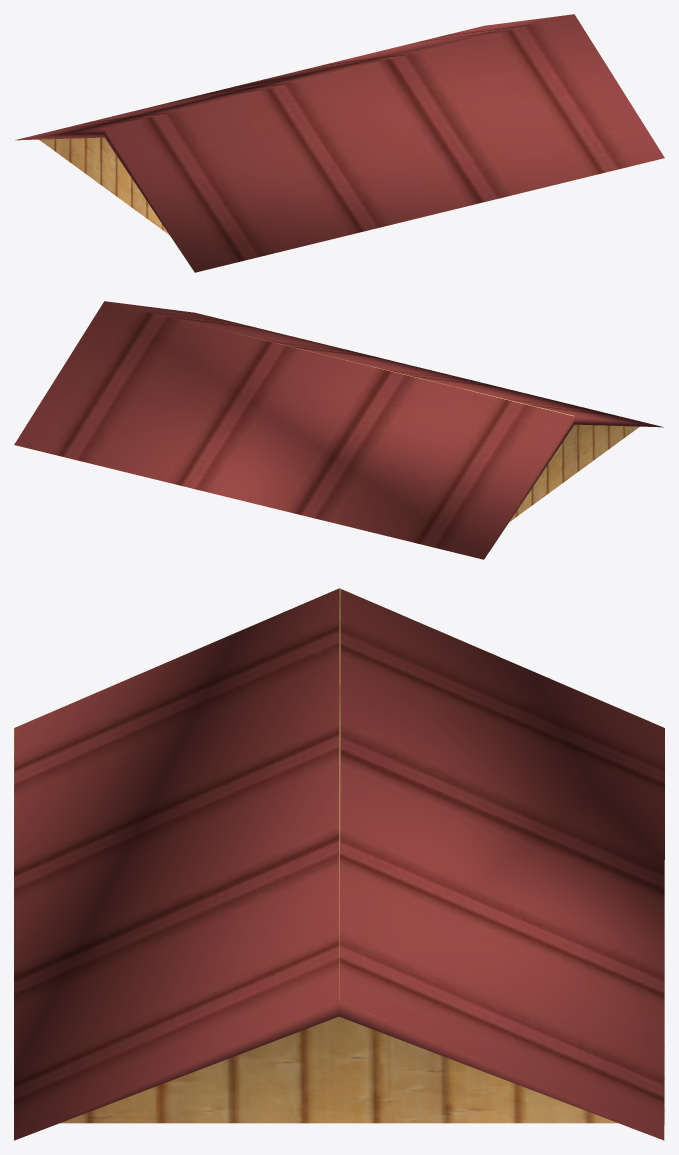
3 renders of one model, top to bottom at view 1: azimuth 30°, elevation 25°; view 2: azimuth 150°, elevation 25°; view 3: azimuth 270°, elevation 25°, orthographic. The views are drawn at different scales.
Visible parts, largest first — view 1: 0roof_Cube.003; view 2: 0roof_Cube.003; view 3: 0roof_Cube.003.
Boxes of the visible parts, x1,y1,x2,y2 form: 0roof_Cube.003: (15, 14, 664, 272); 0roof_Cube.003: (14, 301, 663, 559); 0roof_Cube.003: (14, 588, 664, 1140).
Bounding box in the file's own units: 12 × 1.9 × 8.
